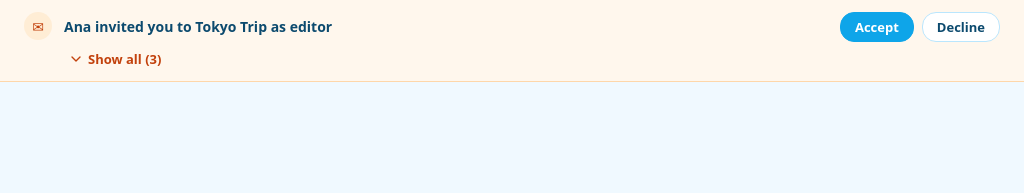
Test: InviteBar › shows only the newest of several invites until the expander opens the rest
The width and height of the screenshot is (1024, 193).
Expected: the number of buttons "Accept" is 1, x1=840 y1=12 x2=914 y2=42
Click the button "Show all (3)".
click(115, 59)  # box x1=64 y1=48 x2=165 y2=70
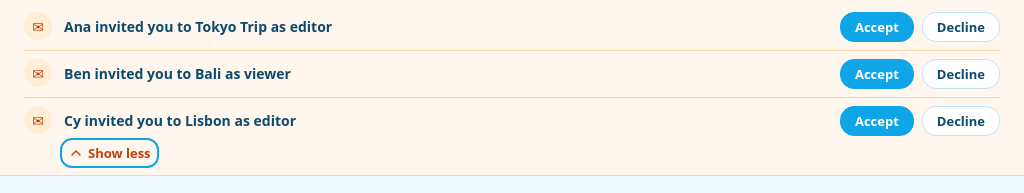
Expected: the number of buttons "Accept" is 3, x1=840 y1=12 x2=914 y2=42; x1=840 y1=59 x2=914 y2=89; x1=840 y1=106 x2=914 y2=136
Result: the button named "Show all (3)" is expanded
Result: the button named "Show all (3)" reads "Show less"
Click the button named "Show all (3)".
click(109, 153)  # box x1=64 y1=142 x2=155 y2=164
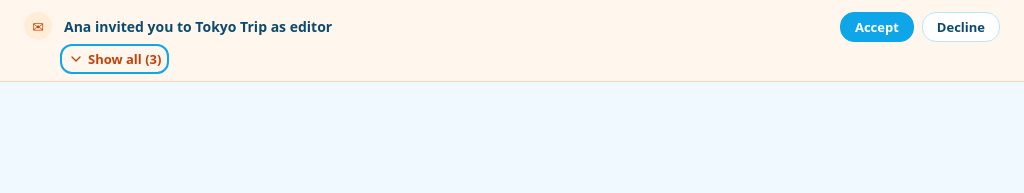
Expected: the number of buttons "Accept" is 1, x1=840 y1=12 x2=914 y2=42
Result: the button "Show all (3)" is collapsed at x1=64 y1=48 x2=165 y2=70
